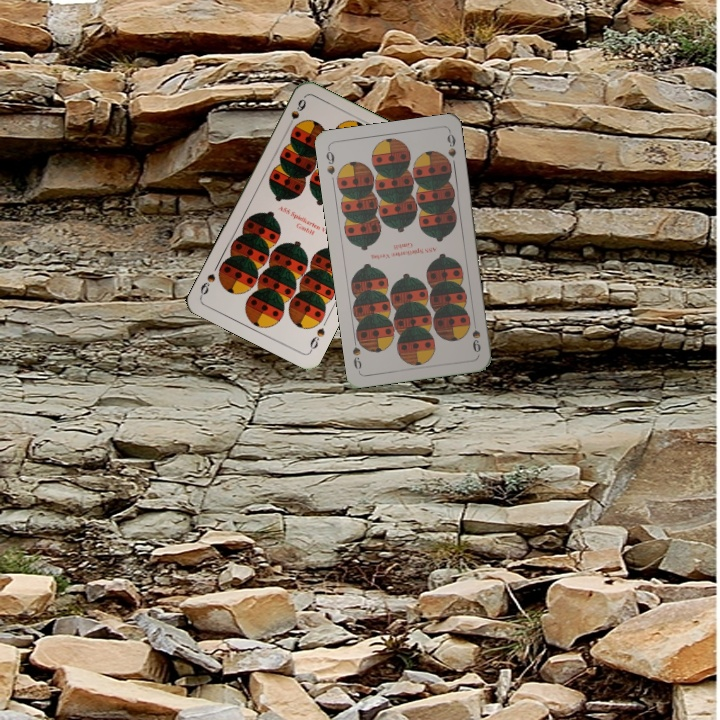S9: (283, 95, 309, 132), (306, 324, 328, 354), (468, 315, 483, 355), (322, 145, 338, 177)
